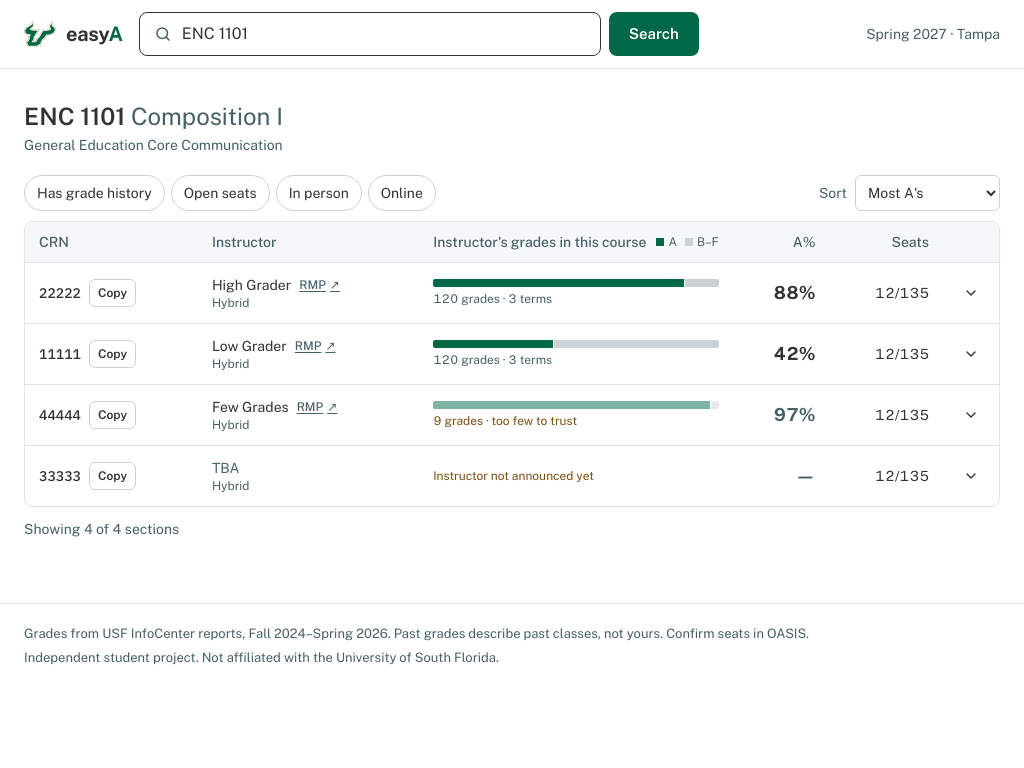
Test: course search › copies a CRN for OASIS
Click the button with aria-label "Copy CRN 22222" at x=112, y=293, box [89,279,136,307]
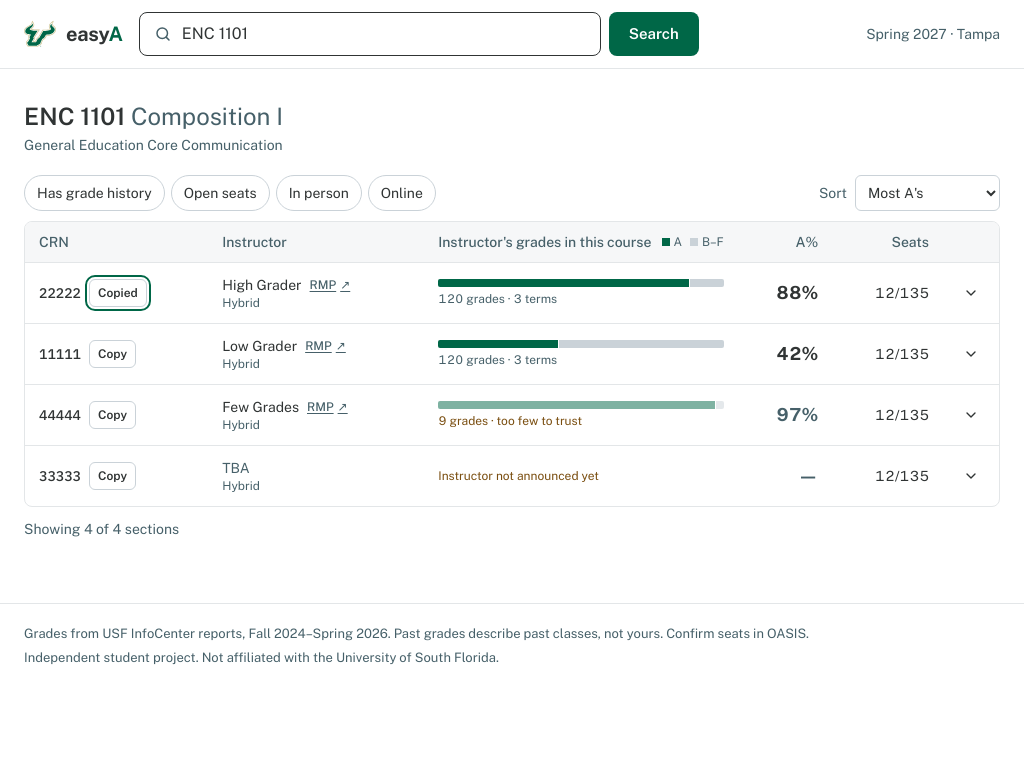
Expected: the button with aria-label "Copied: CRN 22222" is shown, [89,279,147,307]
